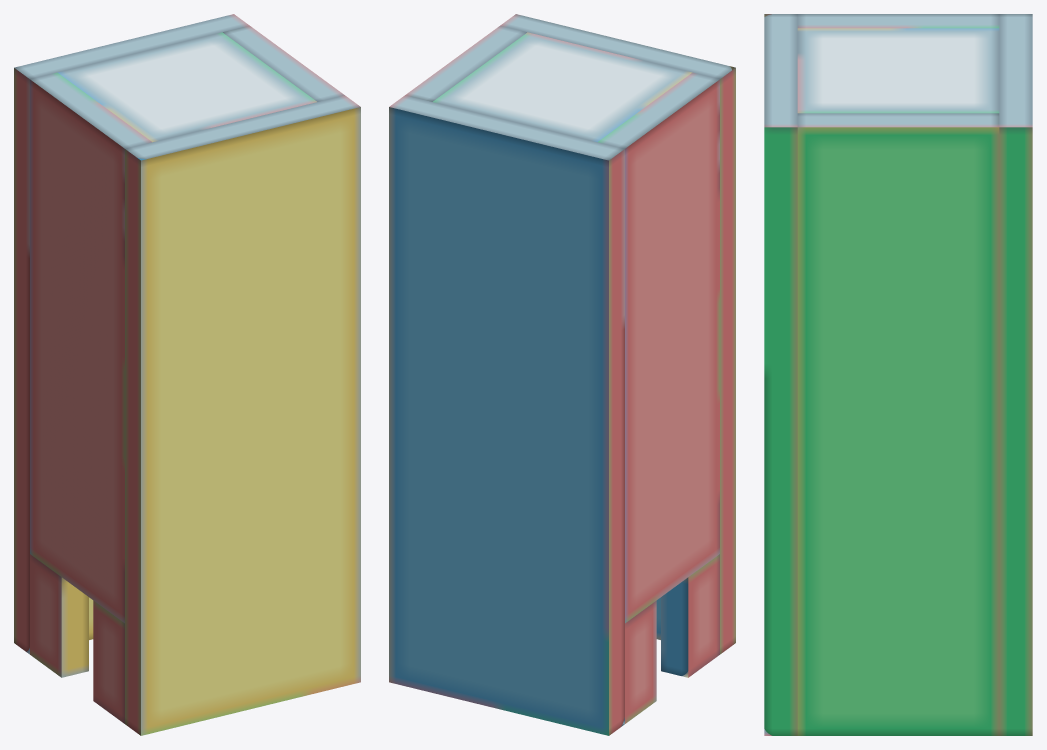
Rendered from Elevator.obj.
3 views of the same model, side by side, from view 1: azimuth 30°, elevation 25°; view 2: azimuth 150°, elevation 25°; view 3: azimuth 270°, elevation 25° (orthographic). The views are drawn at different scales.
Visible parts, largest first — view 1: Wall1, Ceiling; view 2: Wall1, Ceiling; view 3: Wall1, Ceiling.
Part boxes in pixels (bbox=[...]): Wall1: bbox=[14, 14, 360, 735]; Ceiling: bbox=[57, 32, 316, 142]; Wall1: bbox=[389, 14, 735, 735]; Ceiling: bbox=[433, 32, 692, 142]; Wall1: bbox=[764, 14, 1032, 735]; Ceiling: bbox=[797, 28, 999, 113].
Bounding box in the file's own units: 1 × 2.5 × 1.
1 material, 1 textured.
